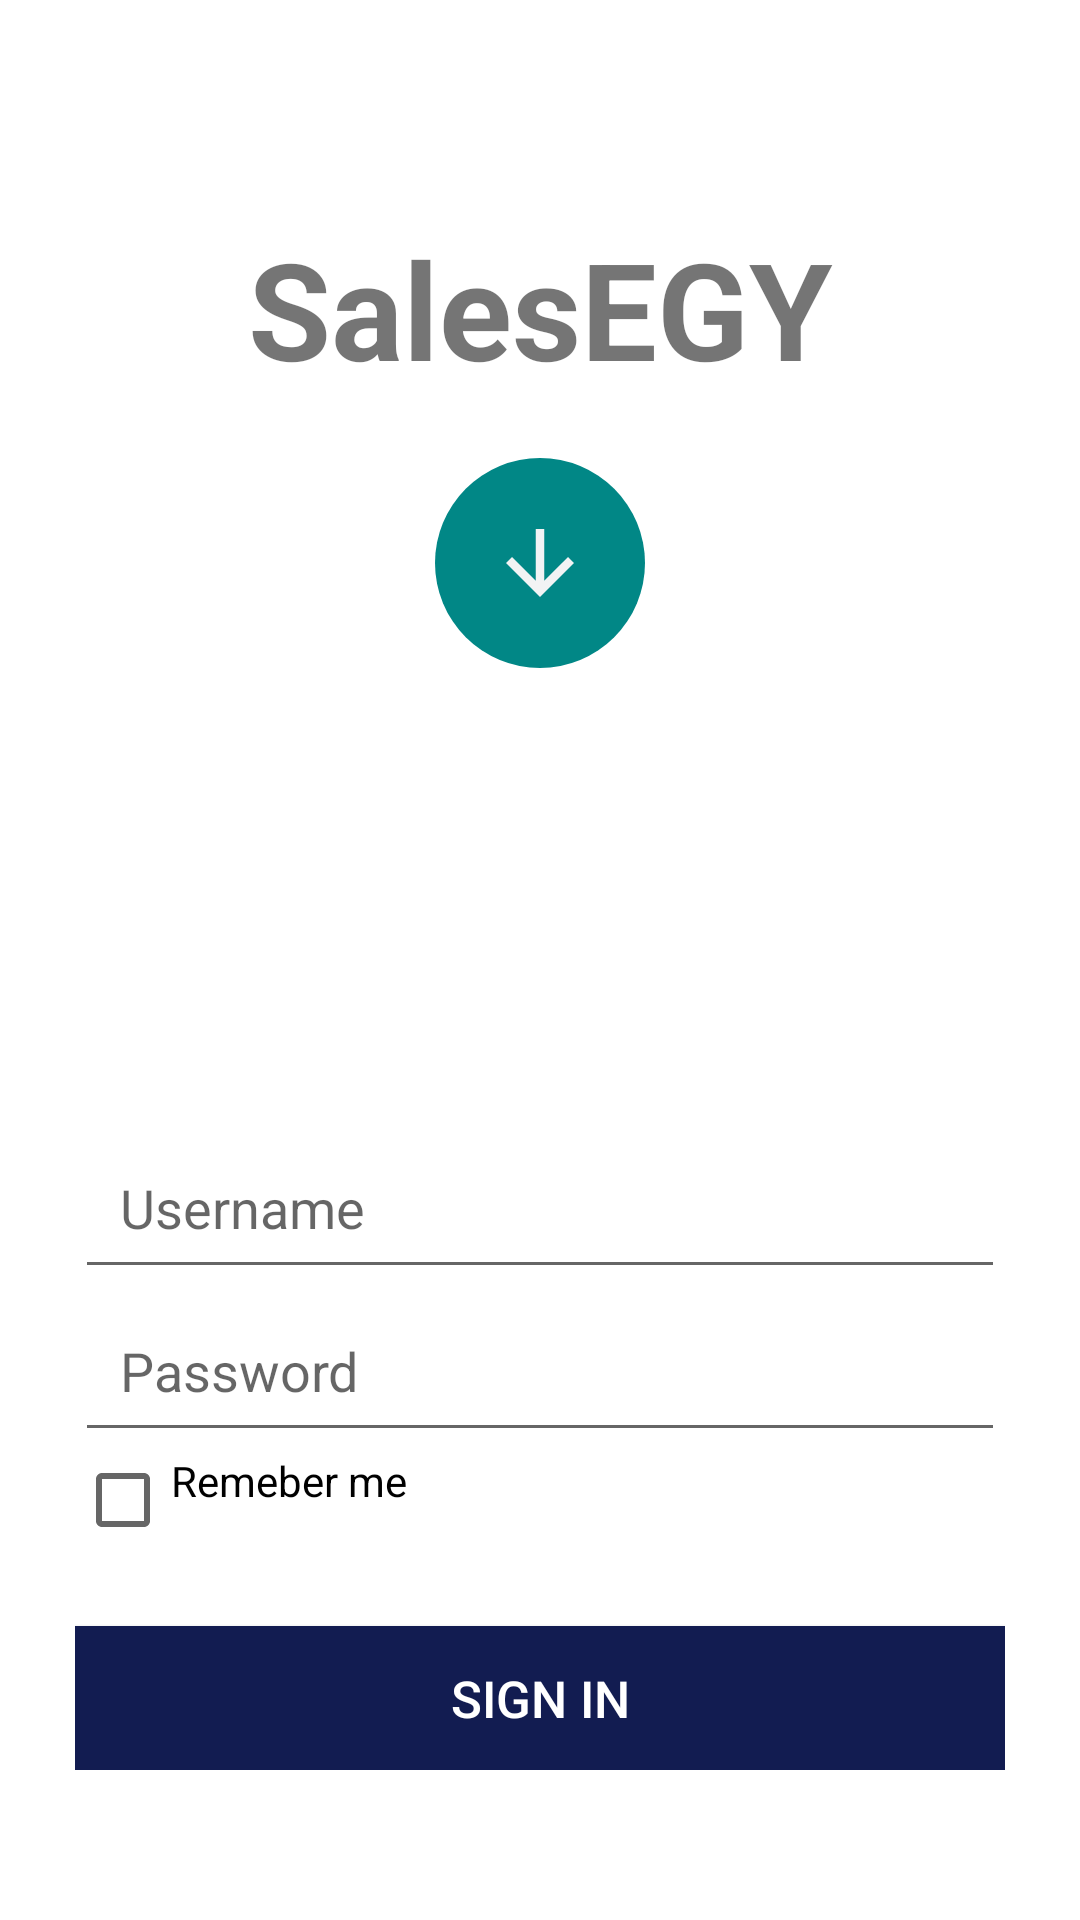

Point at icon controls on the screen. Image size 1080px x 1920px, points as point (x, y).
download: point (540, 563)
